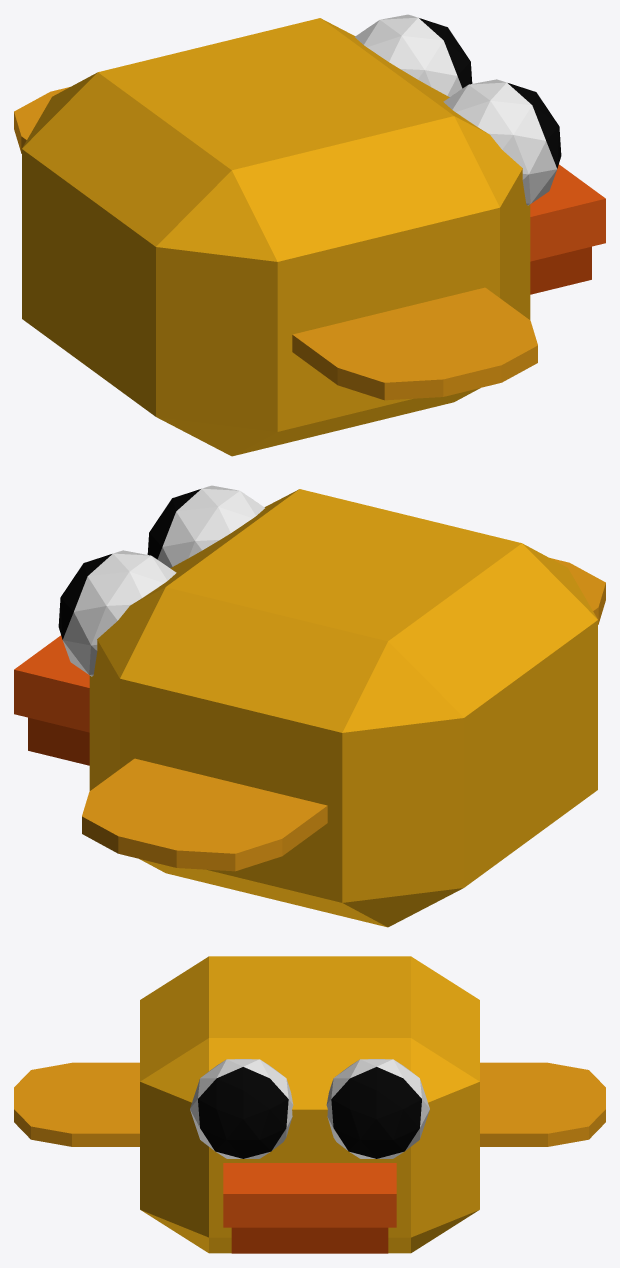
Rendered from Bird_flap.fbx.
3 renders of one model, top to bottom at view 1: azimuth 30°, elevation 25°; view 2: azimuth 150°, elevation 25°; view 3: azimuth 270°, elevation 25°, orthographic. The views are drawn at different scales.
Visible parts, largest first — view 1: Cube, Cube.006, Icosphere, Cube.002, Cube.001, Cube.005; view 2: Cube, Cube.005, Icosphere, Cube.002, Cube.001, Cube.006; view 3: Cube, Icosphere, Cube.002, Cube.005, Cube.006, Cube.001.
Boxes of the visible parts, <box> form: Cube: <box>22,18,530,456</box>; Cube.006: <box>292,287,537,400</box>; Icosphere: <box>355,14,561,205</box>; Cube.002: <box>530,164,605,261</box>; Cube.001: <box>530,246,591,294</box>; Cube.005: <box>14,87,69,153</box>; Cube: <box>89,489,597,927</box>; Cube.005: <box>82,758,327,871</box>; Icosphere: <box>58,485,264,676</box>; Cube.002: <box>14,635,89,732</box>; Cube.001: <box>28,717,89,765</box>; Cube.006: <box>550,558,605,624</box>; Cube: <box>140,956,479,1253</box>; Icosphere: <box>190,1059,429,1158</box>; Cube.002: <box>223,1163,396,1227</box>; Cube.005: <box>480,1062,605,1146</box>; Cube.006: <box>14,1062,139,1146</box>; Cube.001: <box>231,1227,388,1253</box>.
Bounding box in the file's own units: 137 × 81.46 × 203.
